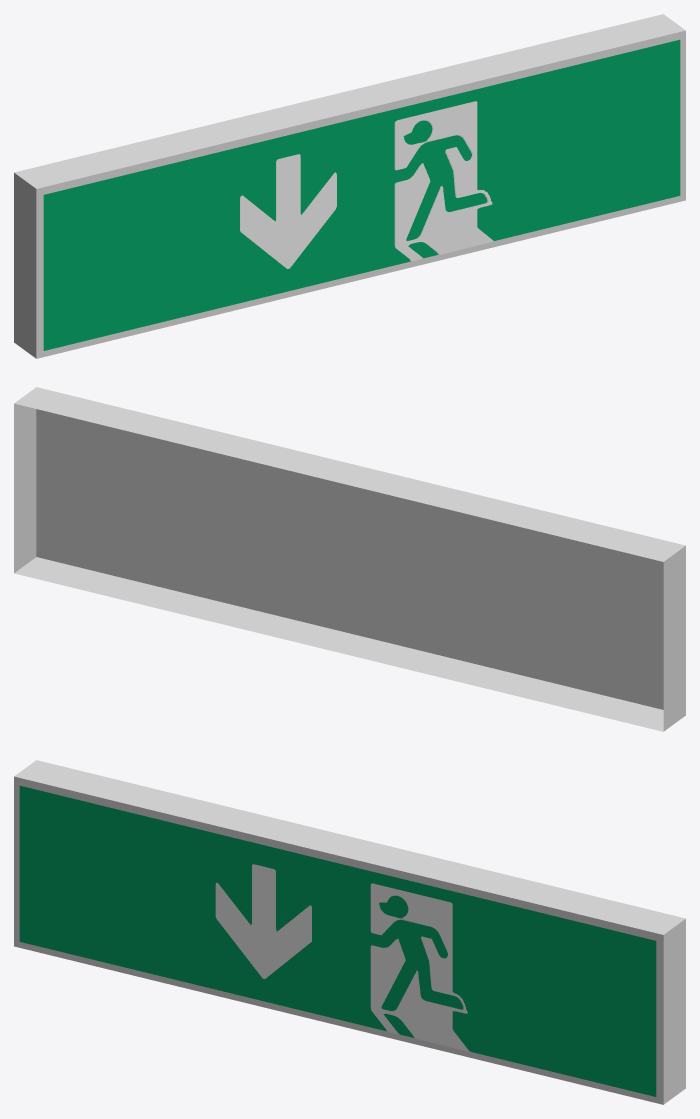
The model's file is Exit Down 250.fbx.
3 views of the same model, one above another, from view 1: azimuth 30°, elevation 25°; view 2: azimuth 150°, elevation 25°; view 3: azimuth 330°, elevation 25° (orthographic).
Parts seen in each view (by area): view 1: Sign Exit Down 250, Exit Down 250 Housing; view 2: Exit Down 250 Housing; view 3: Sign Exit Down 250, Exit Down 250 Housing.
Boxes of the visible parts, <box> form: Sign Exit Down 250: <box>43,39,680,350</box>; Exit Down 250 Housing: <box>14,14,685,358</box>; Exit Down 250 Housing: <box>14,387,685,731</box>; Sign Exit Down 250: <box>19,785,656,1096</box>; Exit Down 250 Housing: <box>14,760,685,1104</box>.
Bounding box in the file's own units: 1 × 0.063 × 0.25.
